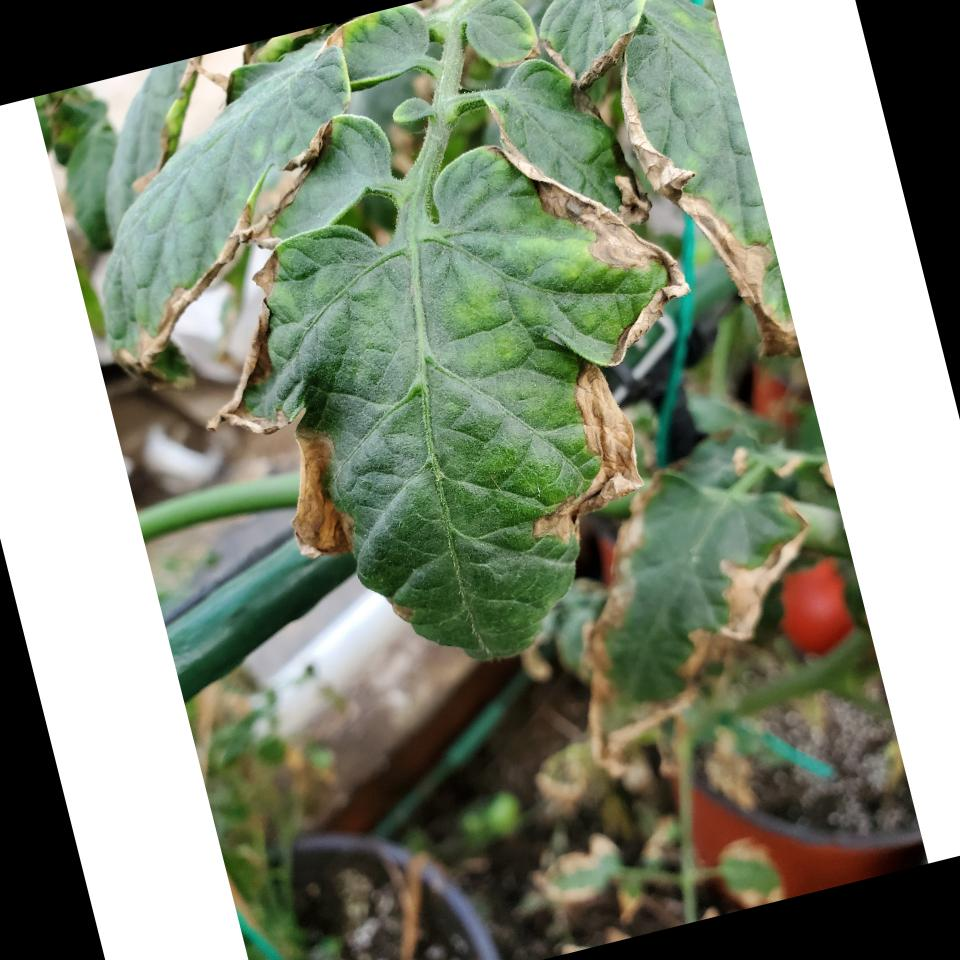tomato_bacterial_blight: (152, 98, 764, 718), (39, 49, 408, 385), (522, 426, 856, 764), (582, 0, 800, 385)
